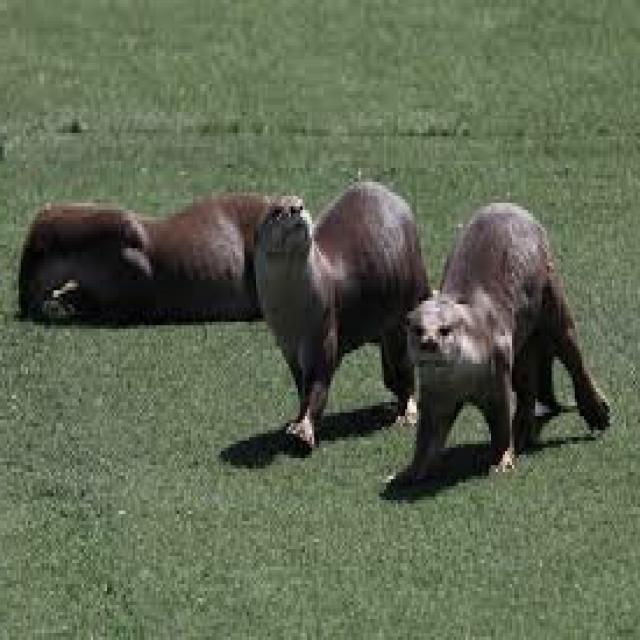otter: (391, 203, 610, 483), (258, 182, 431, 444)
